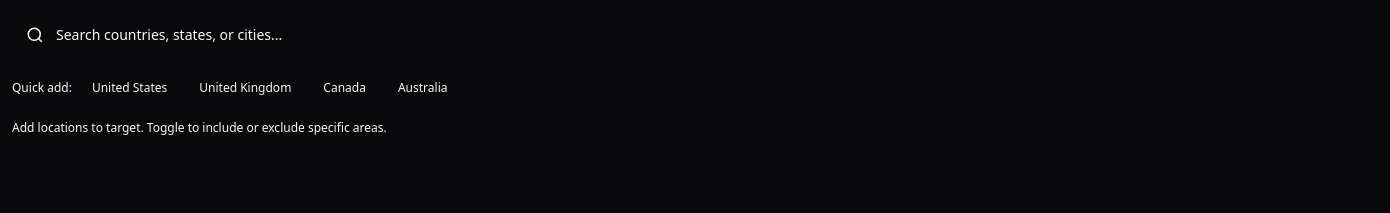
Scenario: LocationTargeting › shows suggestions when typing in search
The image size is (1390, 213).
Type "united" into the field with test id "location-search" at (695, 34), box left=12, top=12, right=1378, bottom=57
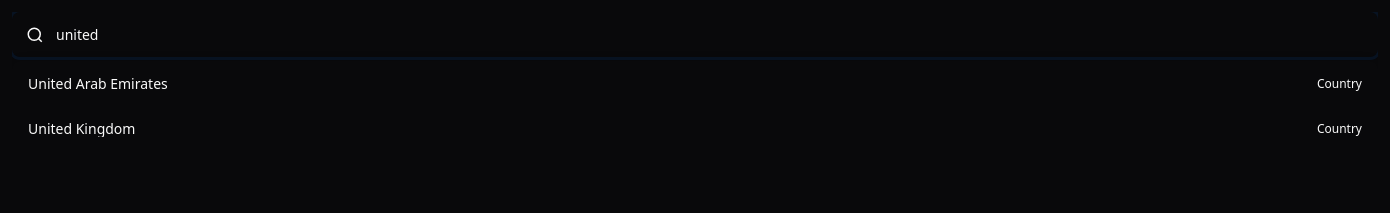
Result: the element with test id "location-suggestions" is shown
